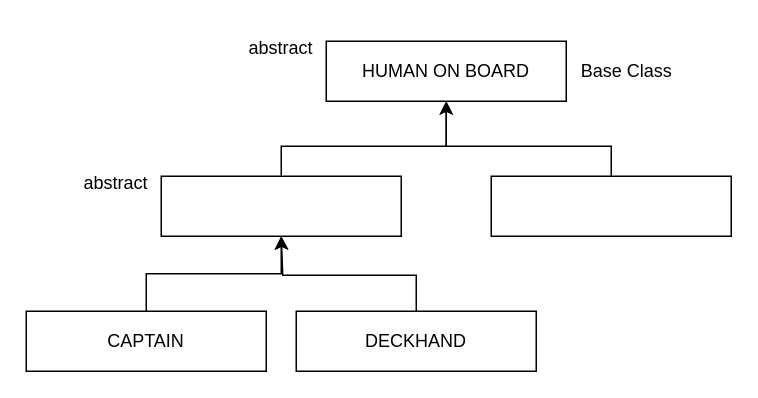
The diagram is 758 pixels wide and 398 high, and some of its shapes have lost their labels. Here are the shapes that lost their labels. From the top down, the centre of each, then its label:
the point at 280,205: PIRATE
the point at 610,205: HOSTAGE
